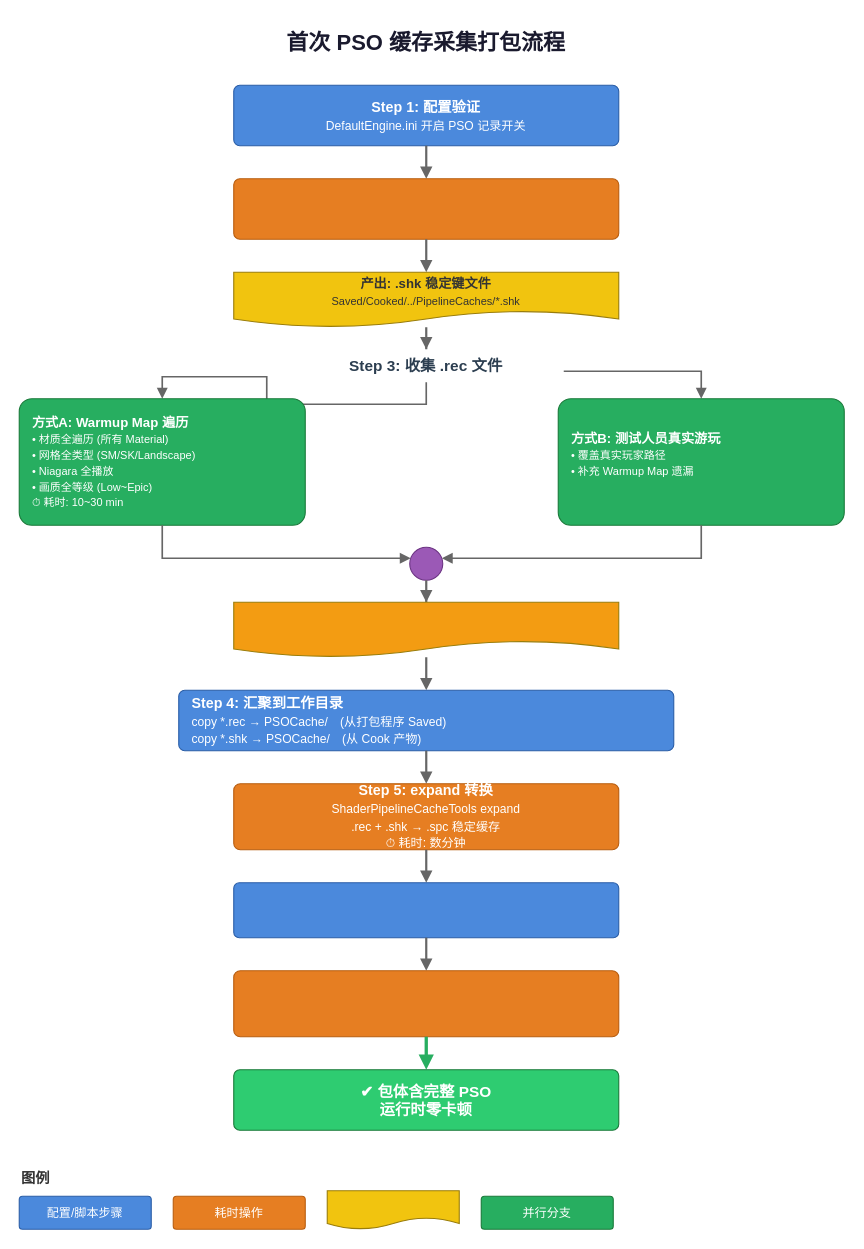
This 864x1249 diagram has some shape labels left out. The shapes that lost their labels are listed below. From the top down, each one's centre as x and y in pixels, then its label:
At pixel 426 208: "Step 2: 首次 Cook 打包 UAT BuildCookRun ⏱ 耗时: 10~60 min".
At pixel 426 629: "产出: .rec.upipelinecache CollectedPSOs/*.rec.upipelinecache".
At pixel 426 910: "Step 6: 集成 .spc copy *.spc → Build/Windows/PipelineCaches/".
At pixel 426 1003: "Step 7: 最终打包 UAT BuildCookRun 引擎自动读取 .spc → 打入包体 ⏱ 耗时: 10~60 min".
At pixel 392 1209: "产出文件".
